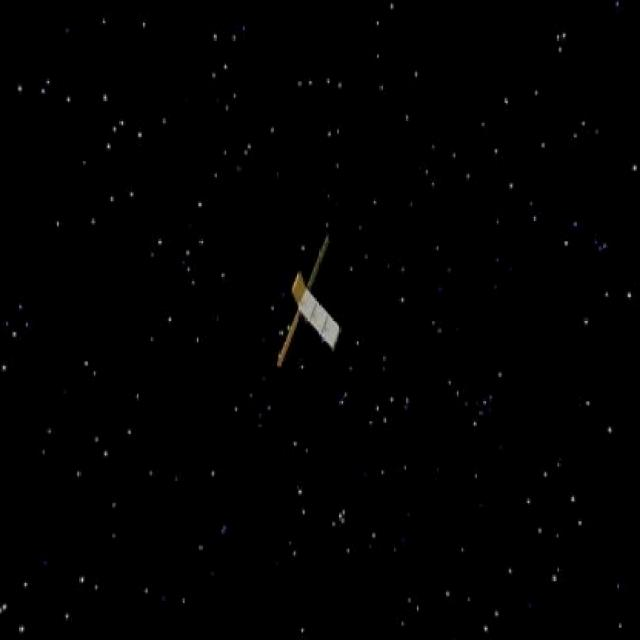satellite: (267, 225, 348, 377)
